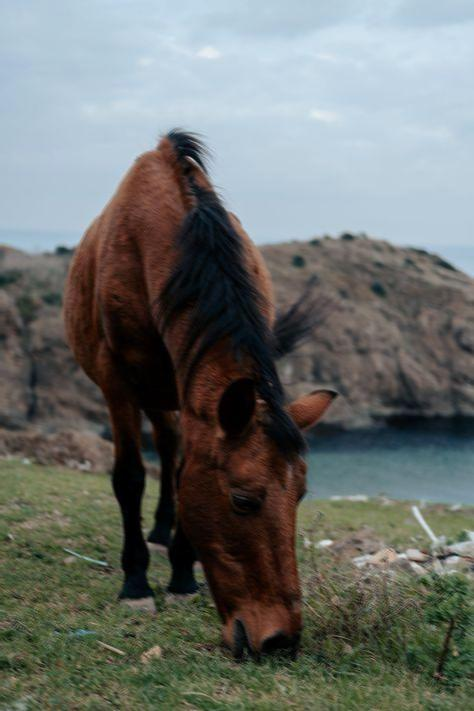horse: (61, 126, 340, 662)
